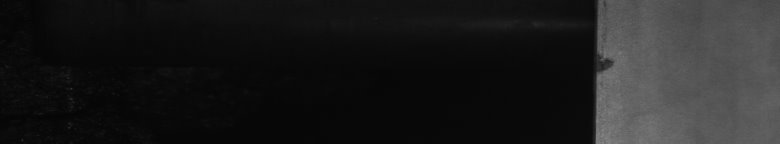hb: (608, 49, 623, 78)
